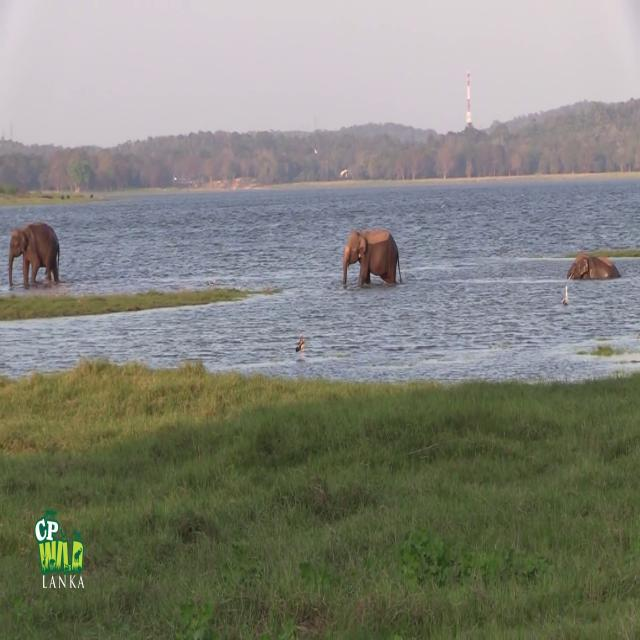Elephant: (342, 228, 402, 287), (8, 220, 60, 288), (566, 252, 621, 280)
person: (295, 333, 306, 352)
